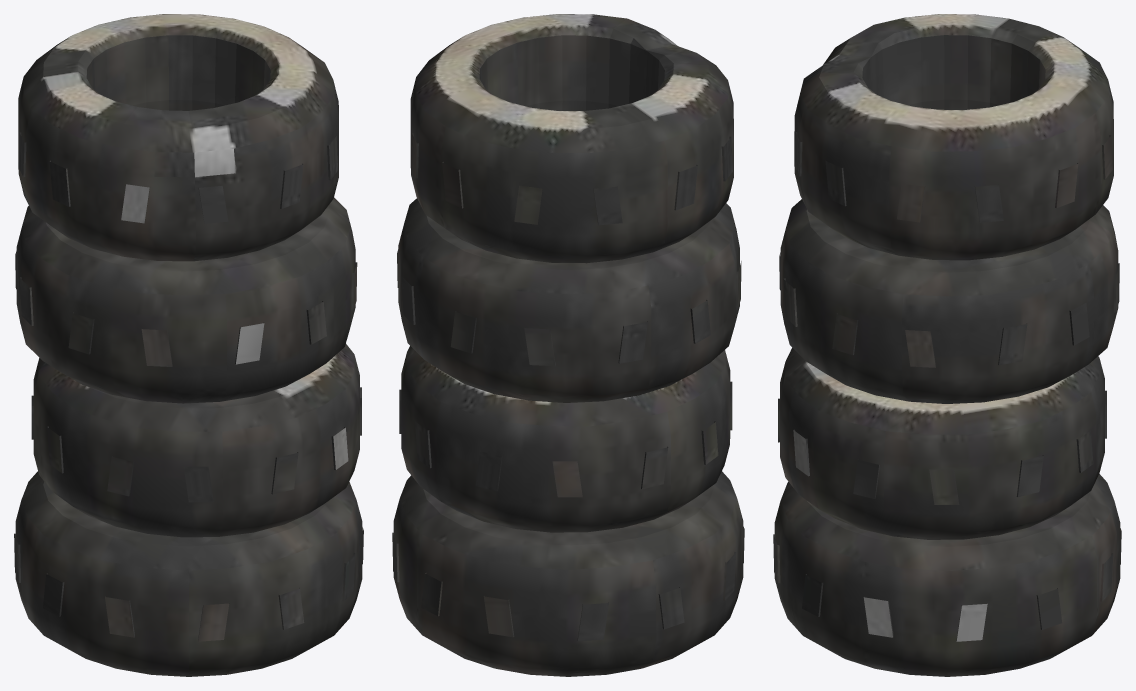
The model's file is JV23_tyre_stacks_v1.glb.
The picture shows the model from 3 angles, left to right: view 1: azimuth 30°, elevation 25°; view 2: azimuth 150°, elevation 25°; view 3: azimuth 270°, elevation 25°; orthographic projection.
Parts seen in each view (by area): view 1: Tyre Stack - Narrow; view 2: Tyre Stack - Narrow; view 3: Tyre Stack - Narrow.
Boxes of the visible parts, left/top/right/bottom form: Tyre Stack - Narrow: left=14, top=14, right=363, bottom=676; Tyre Stack - Narrow: left=392, top=14, right=744, bottom=676; Tyre Stack - Narrow: left=773, top=14, right=1121, bottom=676.
Size of the model in its own units: 0.6879 by 1.2 by 0.6914.
4 materials, 4 textured.
